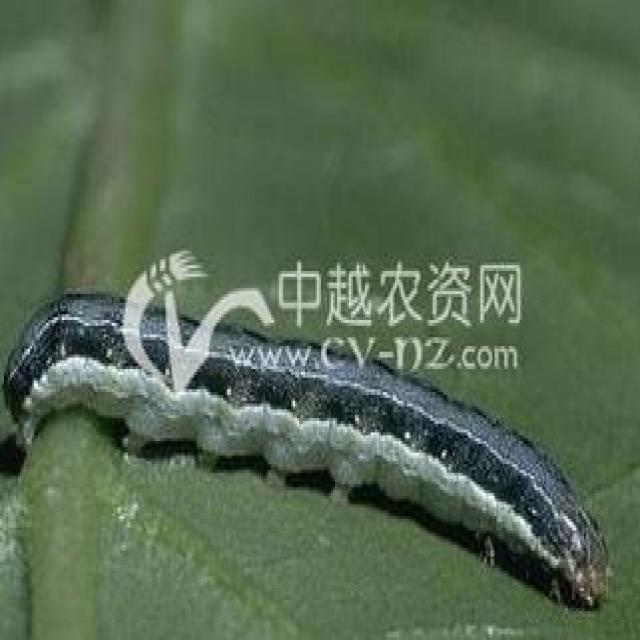BeetArmyWorm-Larva-: (4, 286, 618, 614)
